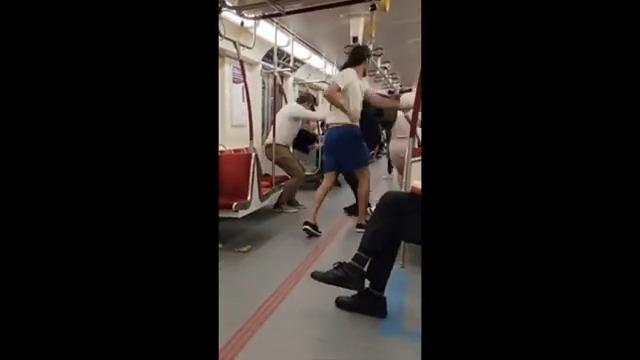non-violence: (308, 193, 422, 319), (266, 95, 325, 211), (388, 93, 421, 185)
violence: (303, 42, 416, 239)
